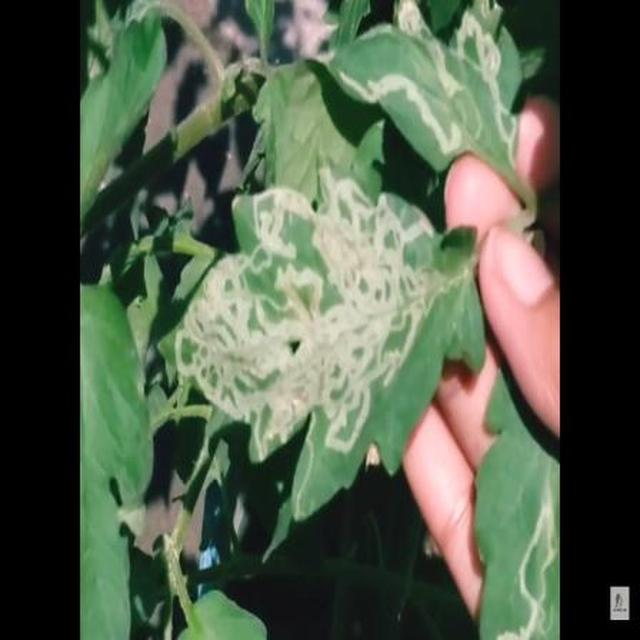Leaf Miner: (284, 123, 605, 523)
